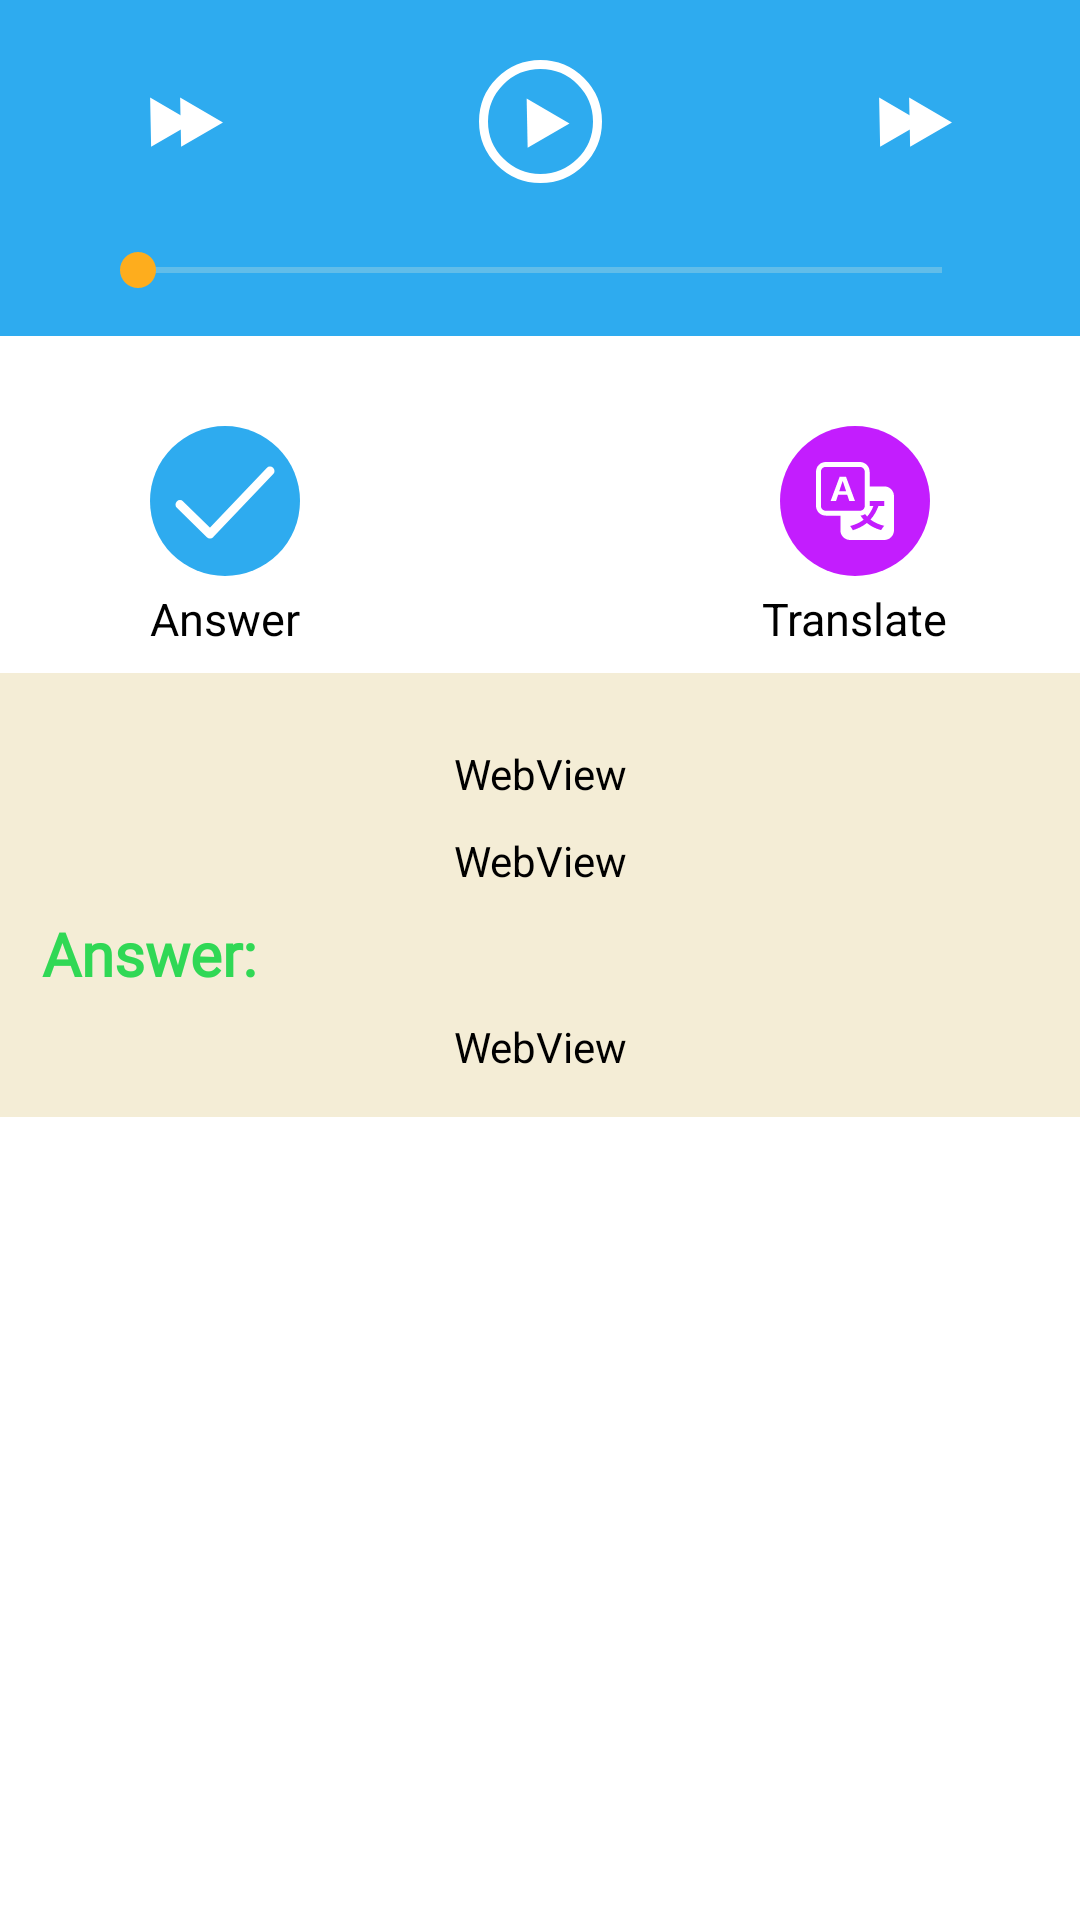

Icons on this 1080×1920 Android screen, each with the point to tap as [x,y]:
button to forward audio by ten seconds: [915,122]
play pause button: [540,121]
